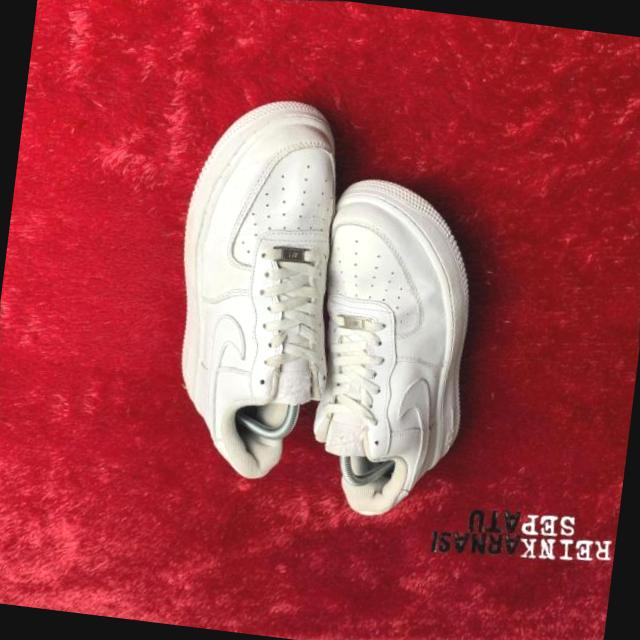nike_fake_airforce: (133, 80, 371, 490), (277, 167, 504, 536)
